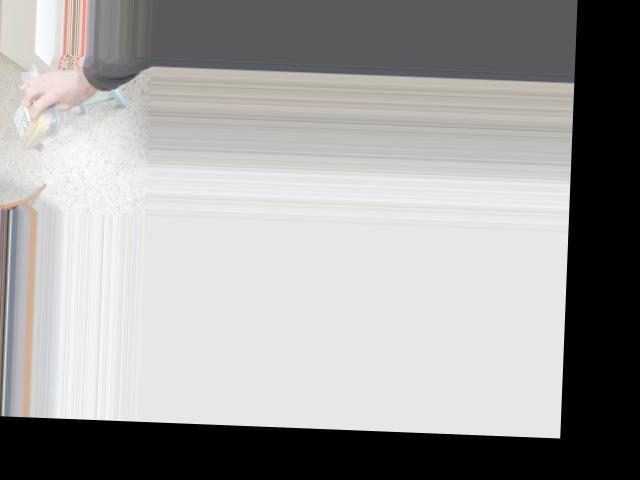cheese: (10, 88, 54, 153)
